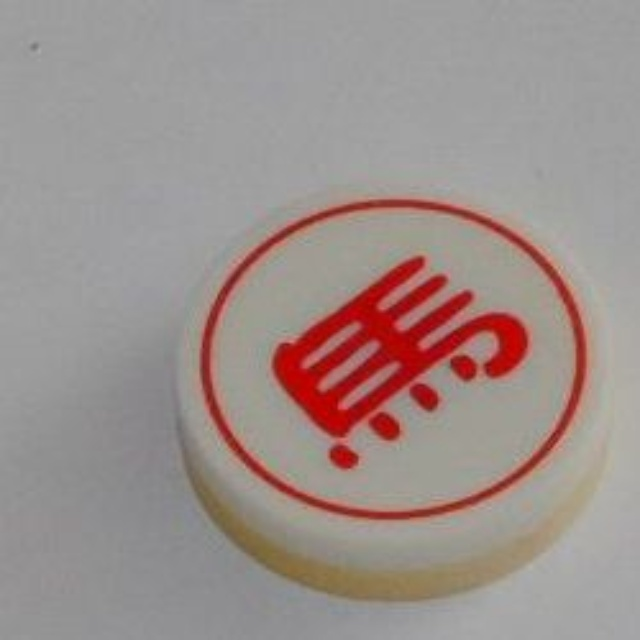red_ma: (167, 174, 622, 607)
